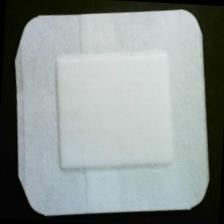Dressing: (3, 1, 222, 224)
